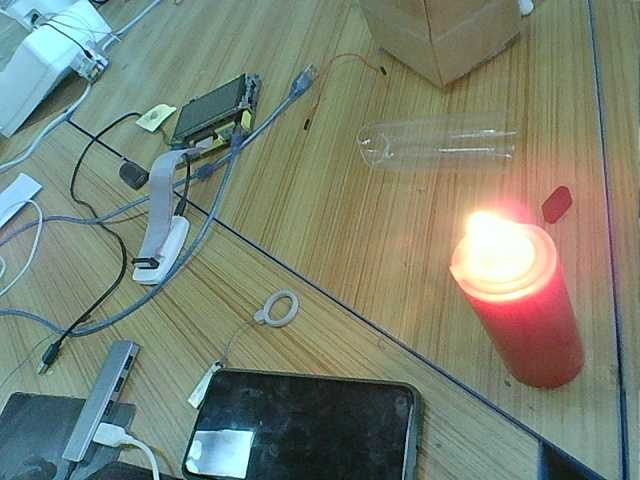candle: (467, 264, 590, 402)
fire: (441, 217, 540, 290)
